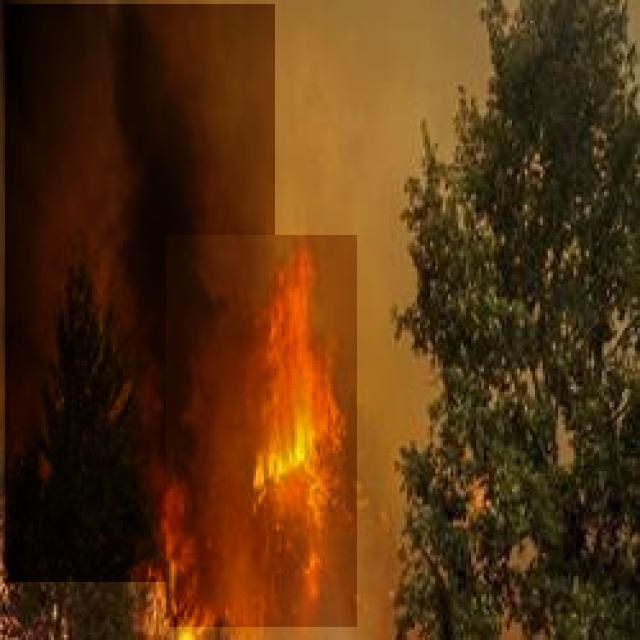Fire: (166, 235, 357, 627)
Smoke: (5, 4, 275, 582)
